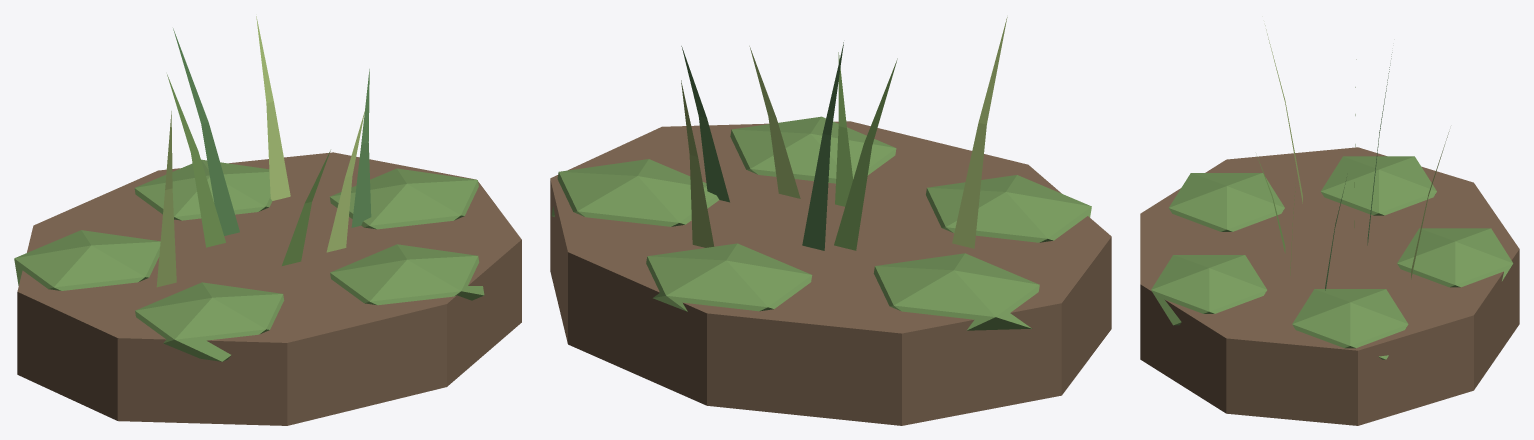
File: mdl_env_meadow_grass_a.glb
3 renders of one model, left to right at view 1: azimuth 30°, elevation 25°; view 2: azimuth 150°, elevation 25°; view 3: azimuth 270°, elevation 25°, orthographic. The views are drawn at different scales.
Visible parts, largest first — view 1: Loam base, Moss cushion.003, Moss cushion.004, Moss cushion.002, Moss cushion, Moss cushion.001, Grass blade.006, Grass blade.003, Grass blade.001, Grass blade.004, Grass blade, Grass blade.005 (+1 smaller); view 2: Loam base, Moss cushion.002, Moss cushion.001, Moss cushion, Moss cushion.003, Moss cushion.004, Grass blade.004, Grass blade.006, Grass blade.001, Grass blade.003, Grass blade, Grass blade.005 (+1 smaller); view 3: Loam base, Moss cushion.004, Moss cushion, Moss cushion.002, Moss cushion.001, Moss cushion.003.
Boxes of the visible parts, x1,y1,x2,y2 form: Loam base: (17, 152, 521, 425); Moss cushion.003: (135, 282, 284, 361); Moss cushion.004: (330, 244, 484, 305); Moss cushion.002: (14, 230, 160, 290); Moss cushion: (330, 168, 478, 229); Moss cushion.001: (134, 159, 272, 220); Grass blade.006: (173, 28, 239, 235); Grass blade.003: (256, 16, 290, 200); Grass blade.001: (167, 74, 225, 247); Grass blade.004: (156, 111, 176, 287); Grass blade: (351, 69, 371, 227); Grass blade.005: (326, 111, 364, 252); Loam base: (550, 121, 1111, 425); Moss cushion.002: (873, 253, 1039, 330); Moss cushion.001: (646, 243, 812, 311); Moss cushion: (551, 159, 719, 226); Moss cushion.003: (926, 175, 1091, 242); Moss cushion.004: (730, 116, 896, 183); Grass blade.004: (952, 17, 1007, 248); Grass blade.006: (802, 42, 843, 250); Grass blade.001: (834, 58, 897, 250); Grass blade.003: (681, 80, 714, 247); Grass blade: (681, 46, 729, 202); Grass blade.005: (749, 46, 800, 198); Loam base: (1140, 147, 1519, 425); Moss cushion.004: (1151, 255, 1266, 325); Moss cushion: (1292, 289, 1408, 359); Moss cushion.002: (1321, 156, 1436, 215); Moss cushion.001: (1397, 228, 1513, 287); Moss cushion.003: (1169, 173, 1284, 231).
Bounding box in the file's own units: 1.97 × 1.19 × 1.55.
